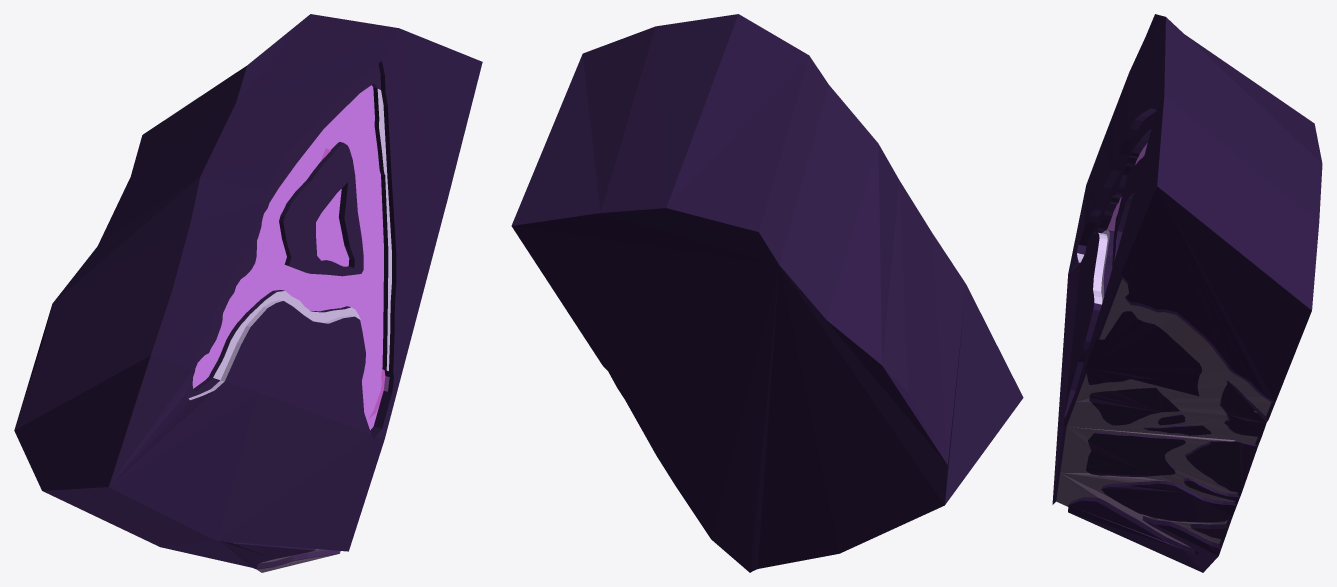
Rendered from Astone.fbx.
The picture shows the model from 3 angles, left to right: view 1: azimuth 30°, elevation 25°; view 2: azimuth 150°, elevation 25°; view 3: azimuth 270°, elevation 25°; orthographic projection. The views are drawn at different scales.
Visible parts, largest first — view 1: pCube6; view 2: pCube6; view 3: pCube6.
Part boxes in pixels (x1,y1,x2,y2): pCube6: (14, 14, 482, 572); pCube6: (511, 14, 1023, 572); pCube6: (1052, 14, 1322, 572).
Size of the model in its own units: 1.36 by 1.72 by 0.7371.
3 materials, 1 textured.
